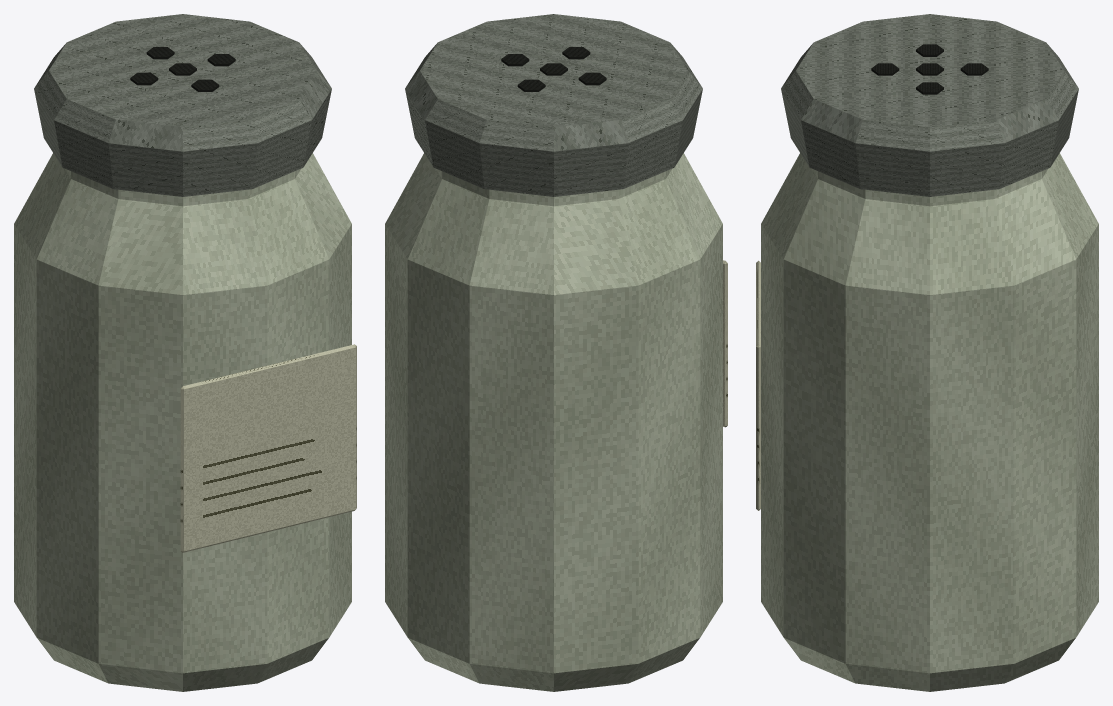
The model's file is blender_salt_2.glb.
3 renders of one model, left to right at view 1: azimuth 30°, elevation 25°; view 2: azimuth 150°, elevation 25°; view 3: azimuth 270°, elevation 25°, orthographic.
Visible parts, largest first — view 1: blender_salt_2; view 2: blender_salt_2; view 3: blender_salt_2.
Boxes of the visible parts, x1,y1,x2,y2 form: blender_salt_2: (14,14,356,691); blender_salt_2: (385,14,727,691); blender_salt_2: (756,14,1098,691).
Size of the model in its own units: 0.068 by 0.1245 by 0.069.
4 materials, 4 textured.
